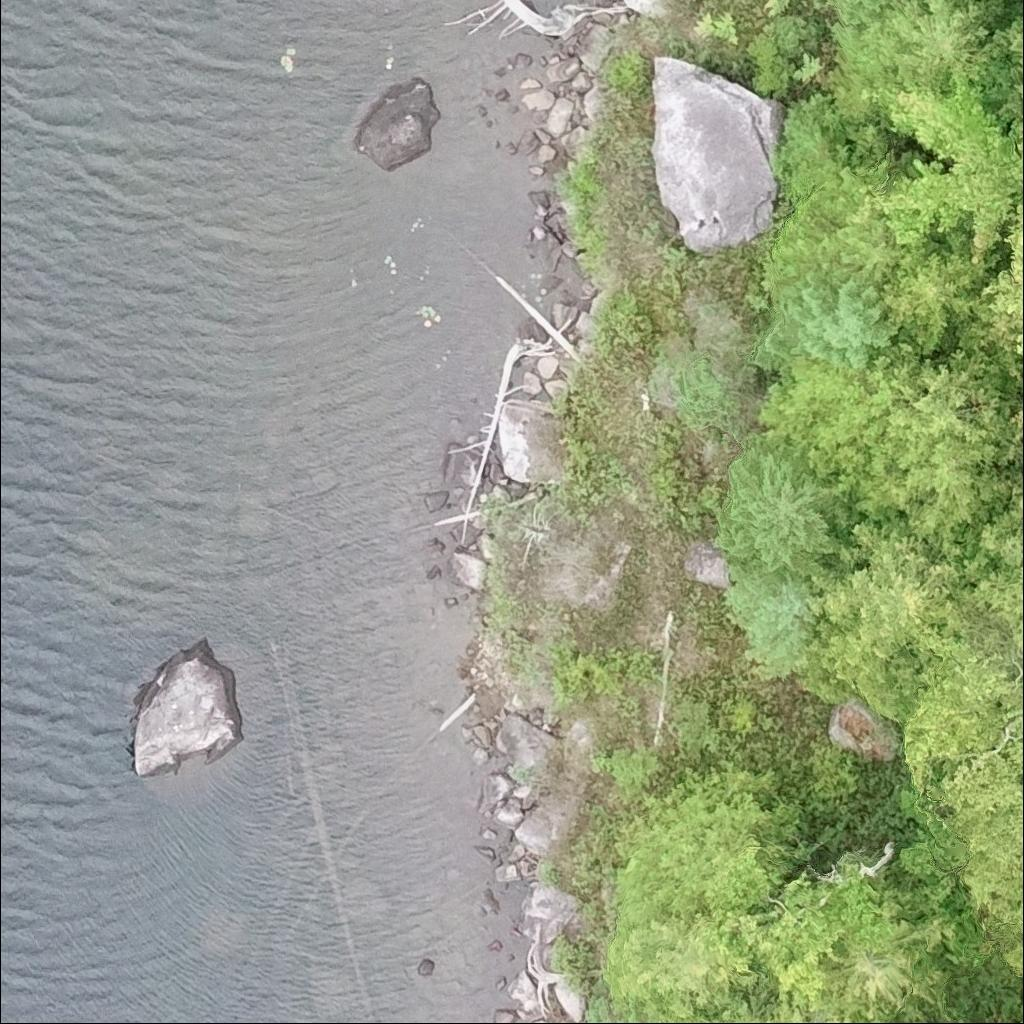crown: (801, 522, 964, 726), (866, 71, 1023, 251), (618, 780, 767, 939), (932, 744, 1023, 973), (864, 343, 1023, 471), (716, 433, 840, 591), (598, 908, 767, 1023), (754, 258, 910, 377), (903, 644, 1023, 796), (838, 445, 1009, 550), (772, 176, 915, 291), (757, 358, 875, 485), (819, 921, 951, 1023), (772, 852, 902, 953), (873, 0, 1005, 91), (948, 489, 1023, 647), (724, 565, 824, 680), (883, 246, 988, 351), (986, 201, 1023, 355), (784, 1004, 876, 1023), (1007, 14, 1023, 93), (1008, 412, 1023, 457), (1023, 476, 1023, 487)
